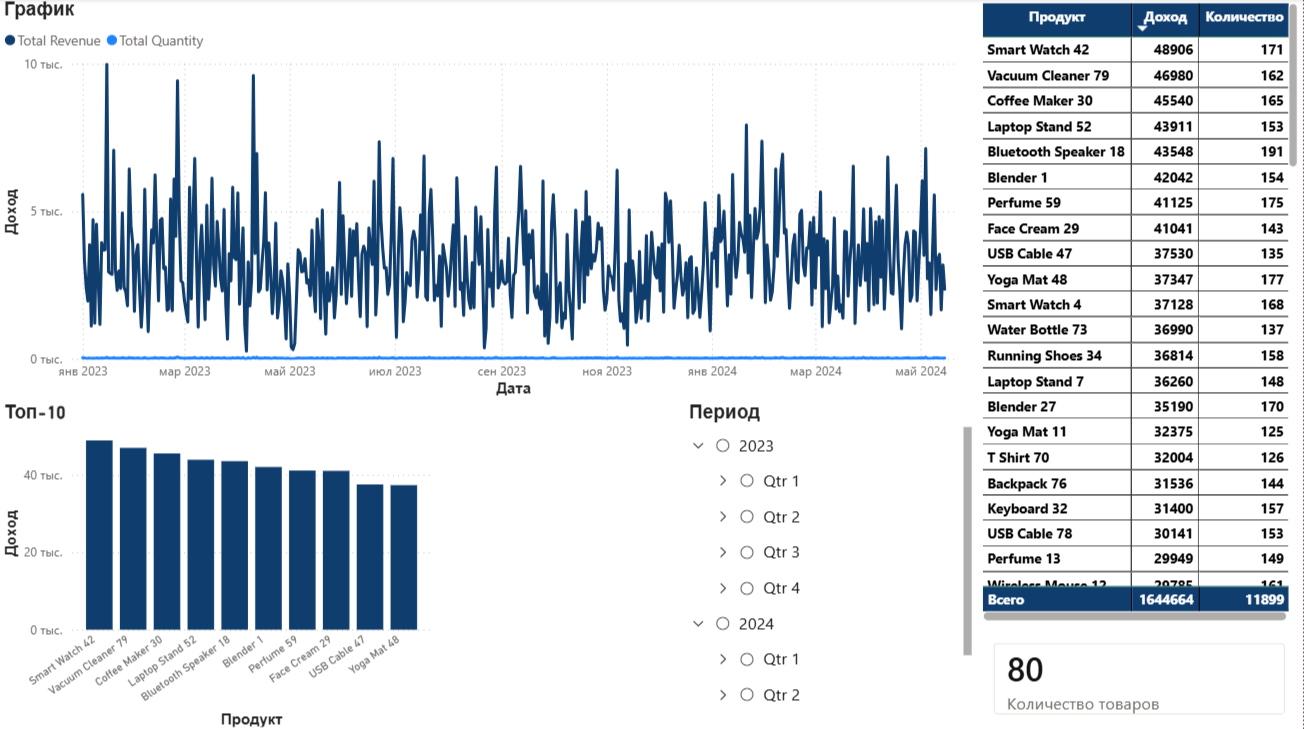

The dashboard page shown, as its layout file describes it:
{"tool":"powerbi","page":{"name":"Общая динамика и топы","canvas":[1280,720],"ordinal":0},"visuals":[{"type":"cardVisual","fields":{"Data":["daily_sales_ref.Количество товаров"]},"box":[959.5,616,320.2,104.3],"z":0},{"type":"clusteredColumnChart","title":"Топ-10 ","fields":{"Category":["daily_sales_ref.product_name"],"Y":["daily_sales.Total Revenue"]},"box":[0,395.1,429.5,325.2],"z":1000},{"type":"lineChart","title":"График","fields":{"Category":["daily_sales.date"],"Y":["daily_sales.Total Revenue","daily_sales.Total Quantity"]},"box":[0,0,959.5,395.1],"z":2000},{"type":"tableEx","fields":{"Values":["daily_sales_ref.product_name","daily_sales.Total Revenue","daily_sales.Total Quantity"]},"box":[959.5,0,320.2,616],"z":3000},{"type":"listSlicer","title":"Период ","fields":{"Values":["Calendar.Date.Изменение.Иерархия дат.Год","Calendar.Date.Изменение.Иерархия дат.Квартал","Calendar.Date.Изменение.Иерархия дат.Месяц","Calendar.Date.Изменение.Иерархия дат.День"]},"box":[672.4,395.1,287.1,312.9],"z":4000}]}

Visuals, with their boxes in screenshot pixels (x1, y1, x2, y2), scaled from the page's 1280x720 canvas onto the 1304x729 screenshot:
cardVisual - daily_sales_ref.Количество товаров: <region>977, 624, 1303, 728</region>
"Топ-10 " clusteredColumnChart: <region>0, 400, 438, 728</region>
"График" lineChart: <region>0, 0, 977, 400</region>
tableEx - daily_sales_ref.product_name x daily_sales.Total Revenue: <region>977, 0, 1303, 624</region>
"Период " listSlicer: <region>685, 400, 977, 717</region>
